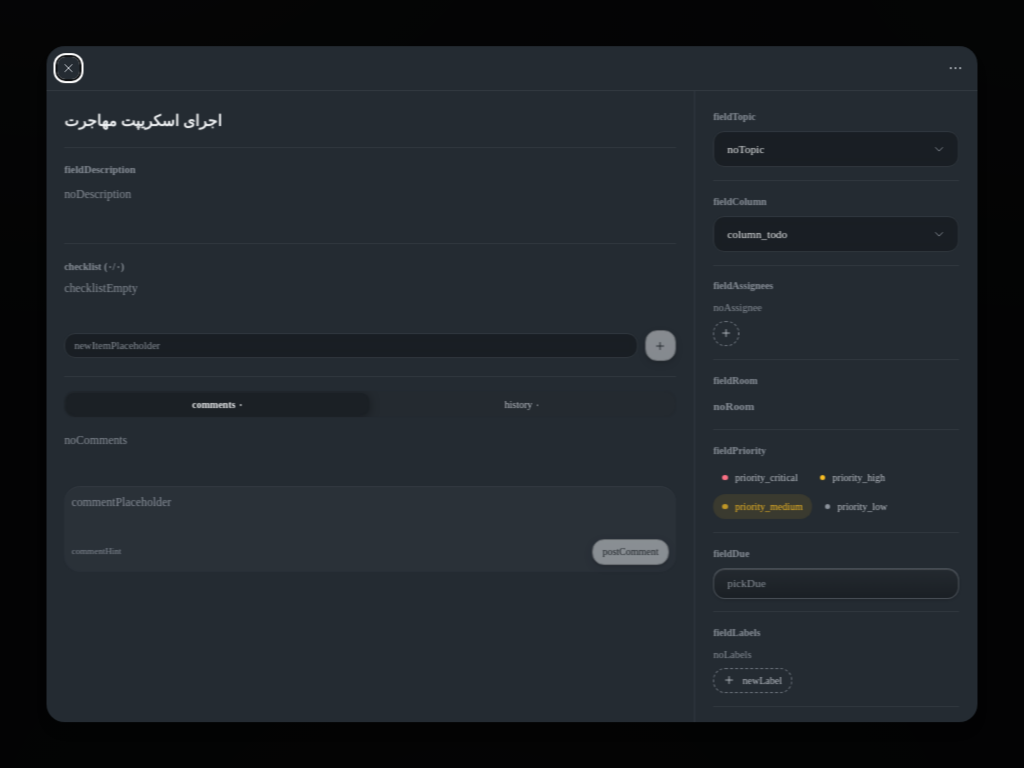
Test: TaskDetail — the red button › asks before it deletes, and the press itself writes nothing
Click the button named "more": (956, 68) [945,57,967,79]
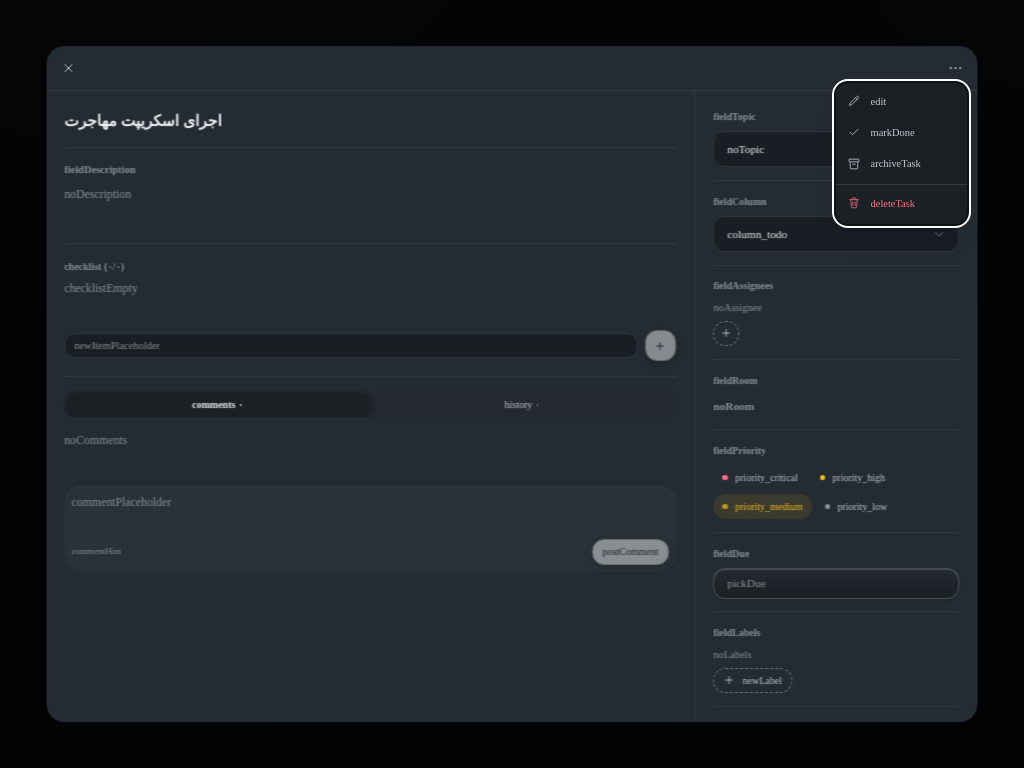
Click the menu item "deleteTask": (881, 203) [847,196,915,210]
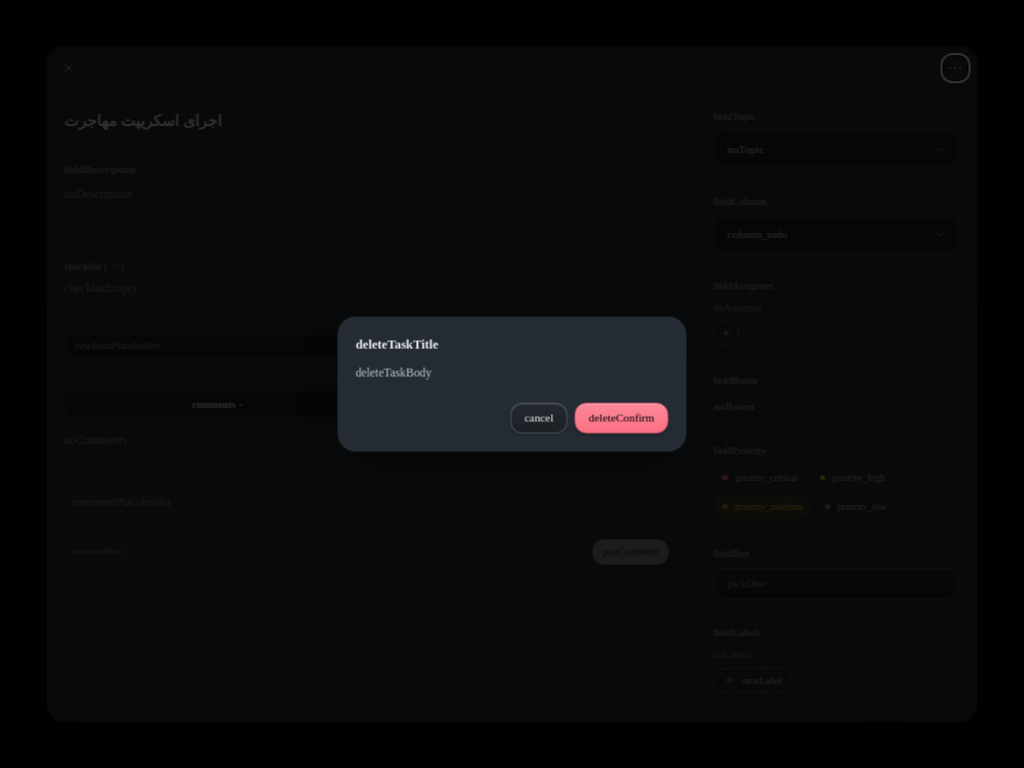
Expected: the button "deleteConfirm" is shown, [575,402,668,433]
